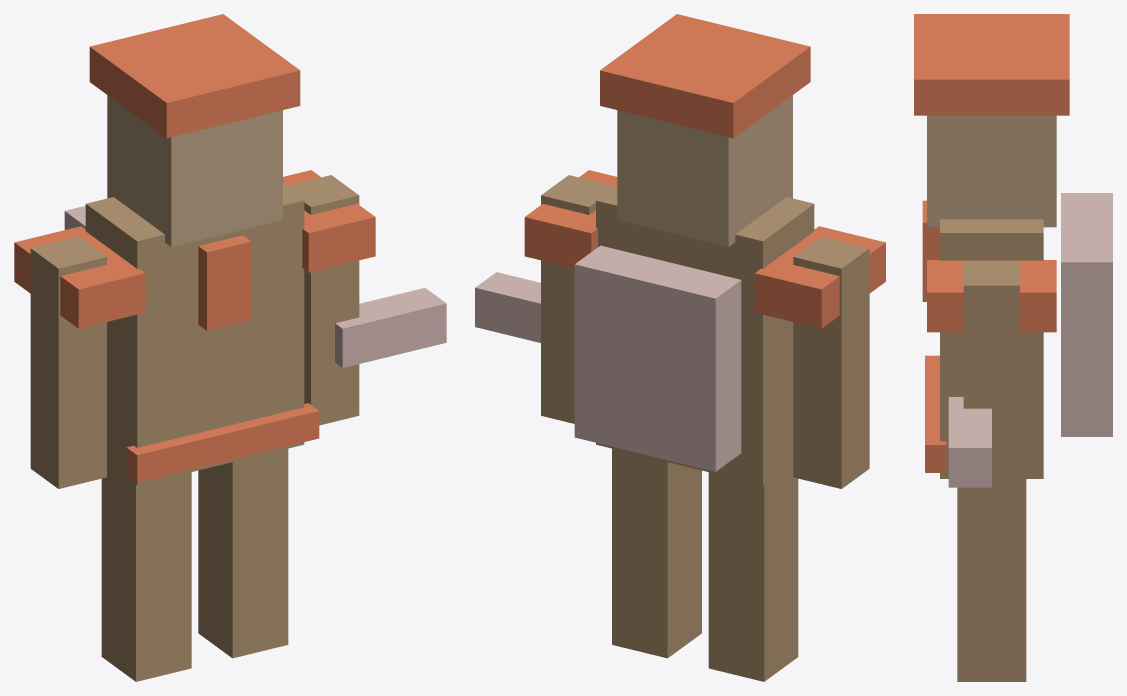
Rendered from 06_vexa_wayfare_keeper_under_choir.glb.
The picture shows the model from 3 angles, left to right: view 1: azimuth 30°, elevation 25°; view 2: azimuth 150°, elevation 25°; view 3: azimuth 270°, elevation 25°; orthographic projection.
Visible parts, largest first — view 1: Vexa Wayfare, Keeper under Choir; view 2: Vexa Wayfare, Keeper under Choir; view 3: Vexa Wayfare, Keeper under Choir.
Boxes of the visible parts, x1,y1,x2,y2 form: Vexa Wayfare, Keeper under Choir: (14, 14, 446, 681); Vexa Wayfare, Keeper under Choir: (475, 14, 885, 681); Vexa Wayfare, Keeper under Choir: (914, 14, 1112, 681).
Bounding box in the file's own units: 1.02 × 1.52 × 0.4579.
